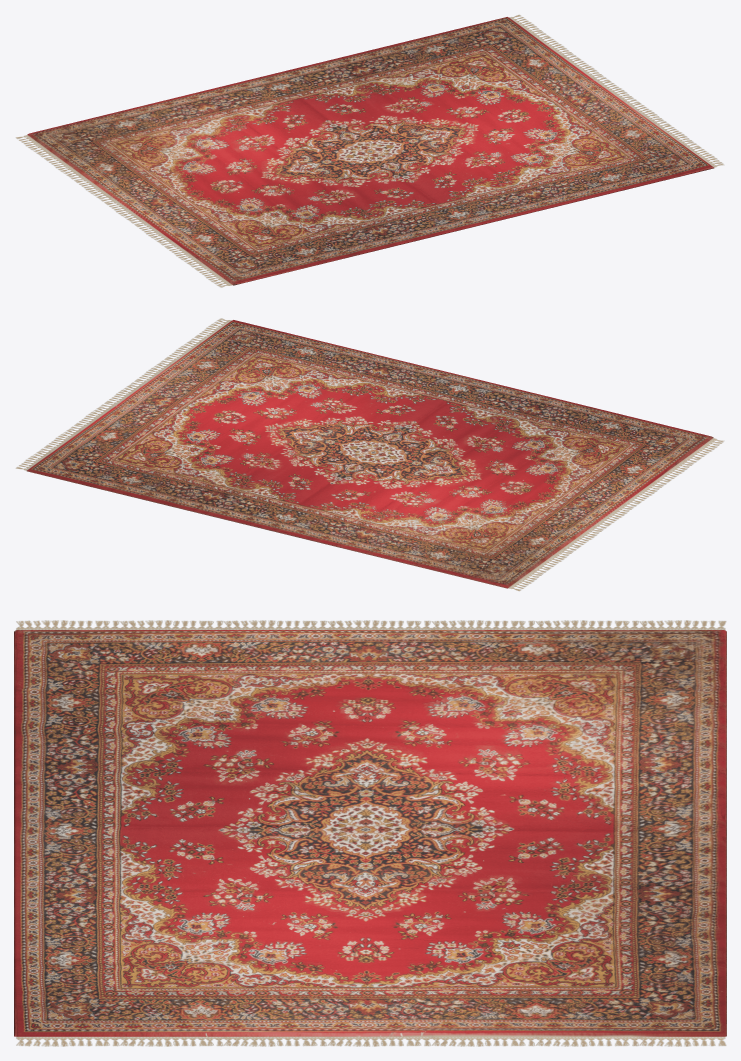
The model's file is rug.glb.
3 renders of one model, top to bottom at view 1: azimuth 30°, elevation 25°; view 2: azimuth 150°, elevation 25°; view 3: azimuth 270°, elevation 25°, orthographic. The views are drawn at different scales.
Parts seen in each view (by area): view 1: Plane, Rug_Bottom; view 2: Plane, Rug_Bottom; view 3: Plane, Rug_Bottom.
Boxes of the visible parts, box(x1,y1,x2,y2) form: Plane: box(16, 14, 723, 287); Rug_Bottom: box(233, 168, 713, 285); Plane: box(16, 318, 723, 591); Rug_Bottom: box(27, 471, 507, 588); Plane: box(14, 620, 726, 1046); Rug_Bottom: box(14, 631, 726, 1036).
Size of the model in its own units: 1.4 by 0.00363 by 0.9907.
Materials: 2 (2 with a texture image).
